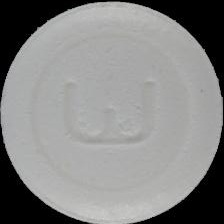61919-986: (0, 0, 224, 224)
